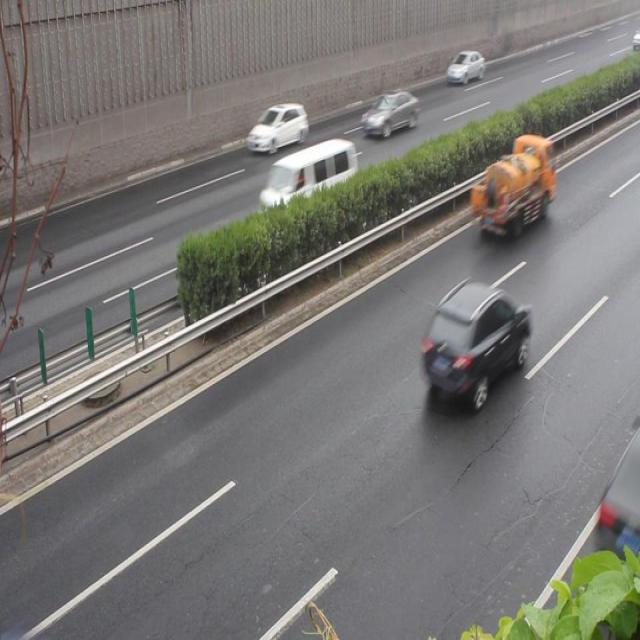bus: (470, 132, 555, 235)
car: (418, 279, 530, 405), (248, 100, 305, 152), (361, 90, 418, 142), (445, 50, 484, 87)
truck: (260, 141, 357, 230)
